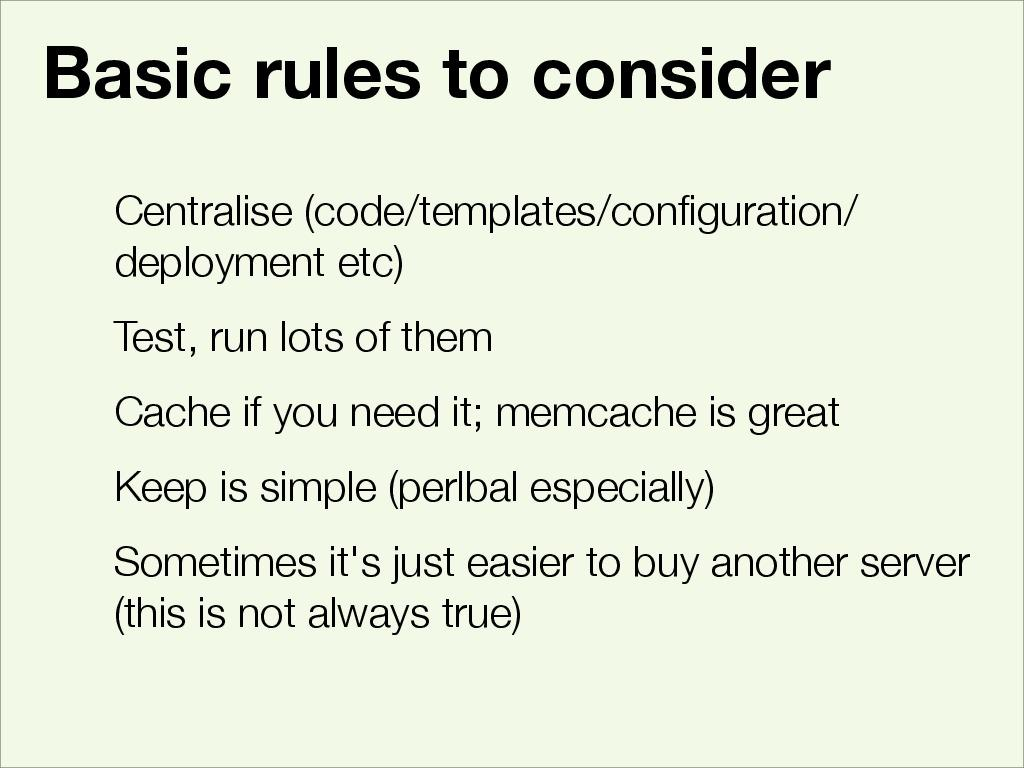paragraph: (95, 169, 993, 675)
title: (34, 33, 852, 118)
